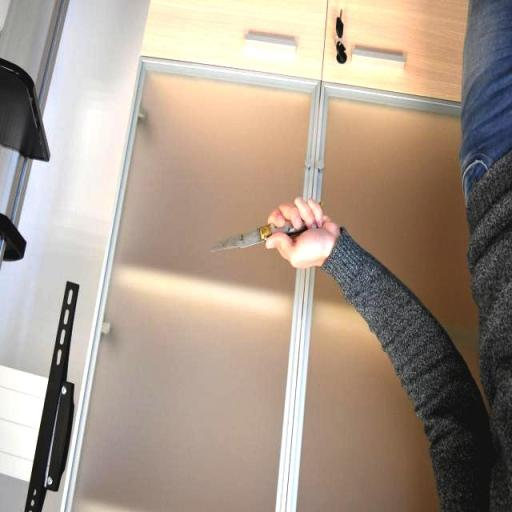knife: (214, 218, 308, 251)
